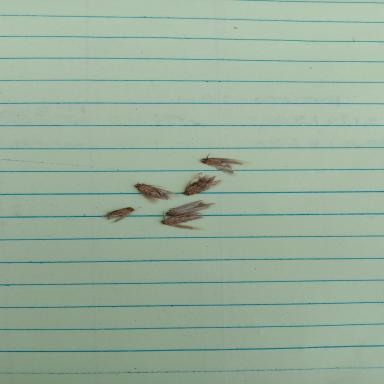pbw: (200, 152, 249, 176), (182, 171, 225, 196), (133, 182, 181, 204), (160, 211, 206, 231), (165, 199, 216, 216), (100, 206, 134, 222)
